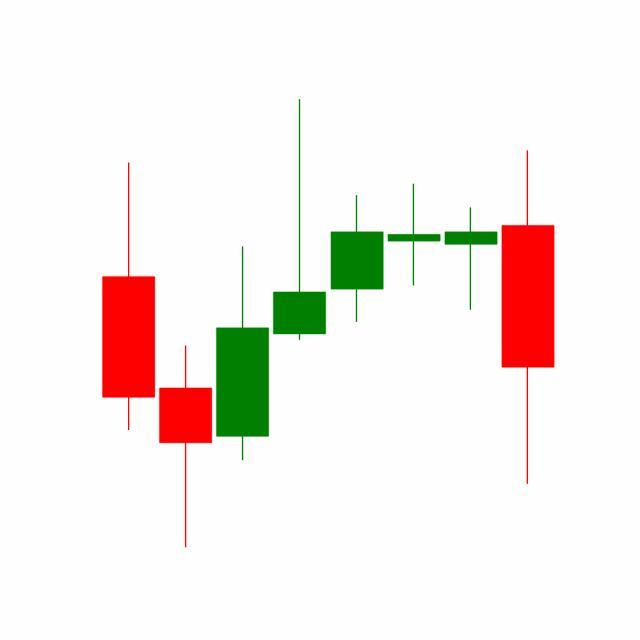Hikkake Pattern: (270, 100, 555, 490)
